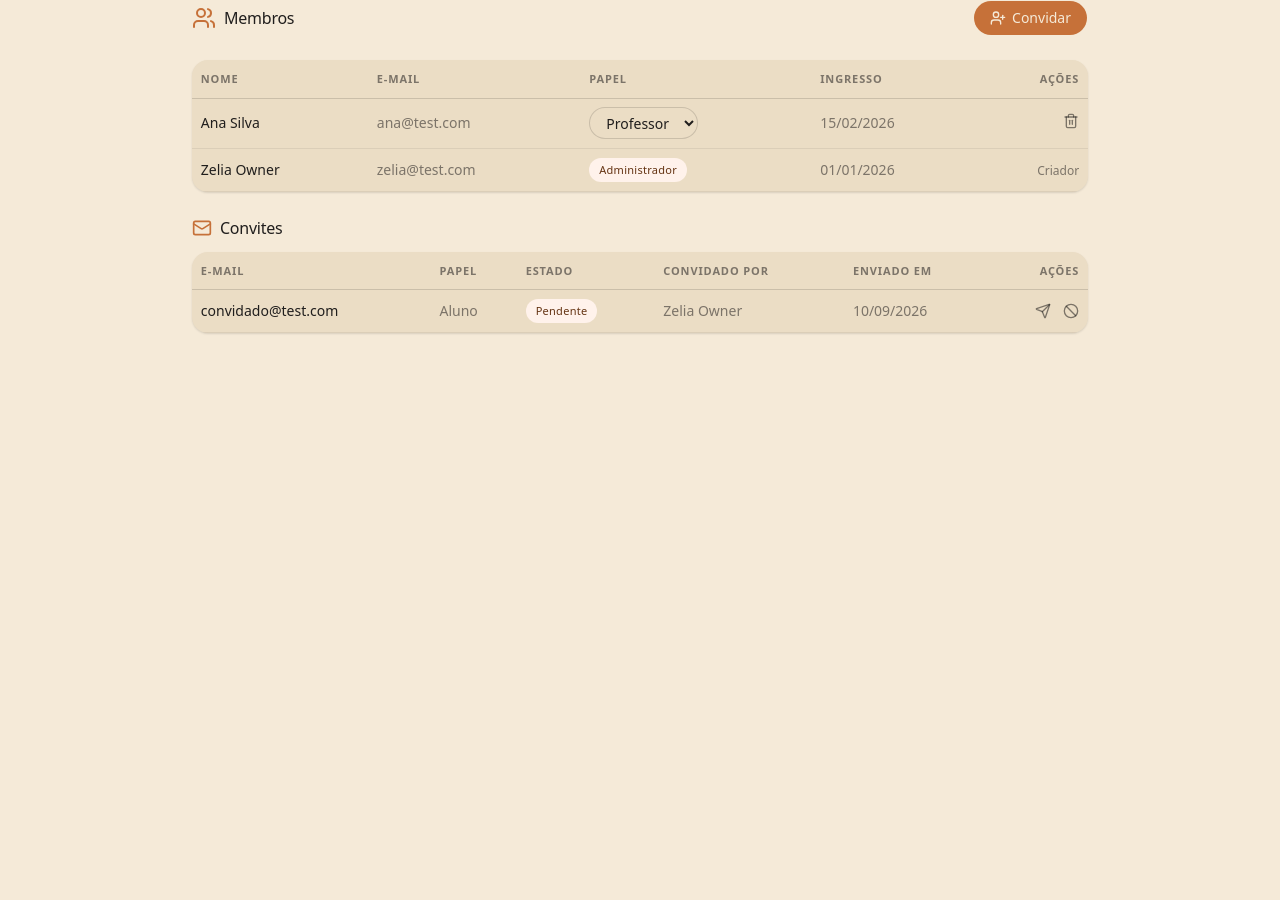
it: OrganizationMembersPage — invitations › reports a failed cancellation on the affected row
What coordinates should you click on to do the following:
click the button named "Cancelar convite para convidado@test.com"
I would click on:
 (1071, 311)
Its box is [1063,303,1079,319].
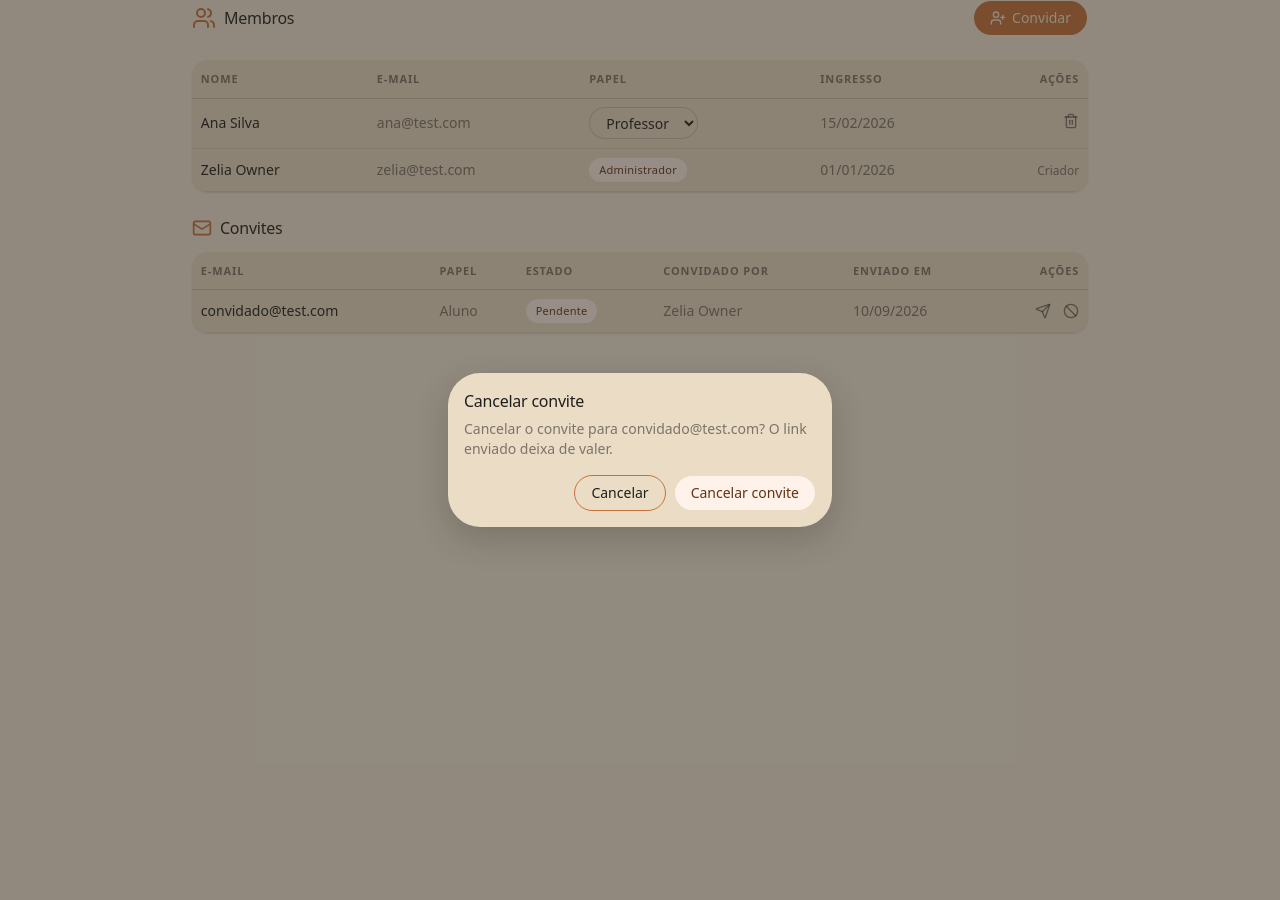
What coordinates should you click on to do the following:
click the button "Cancelar convite"
I would click on:
 (745, 493)
Its box is [674,475,816,511].
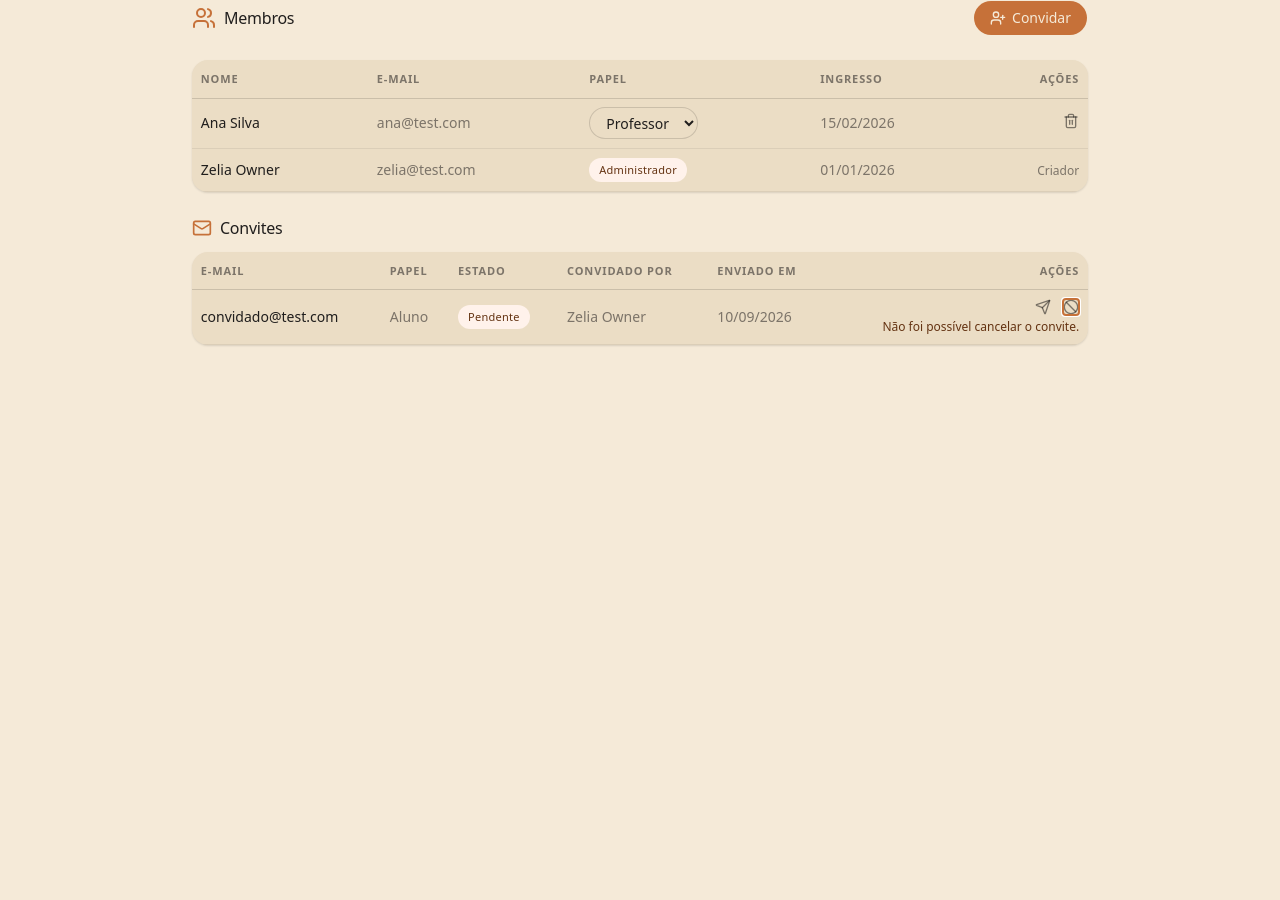
Expected: the text "Não foi possível cancelar o convite." is shown, [882,318,1079,335]
